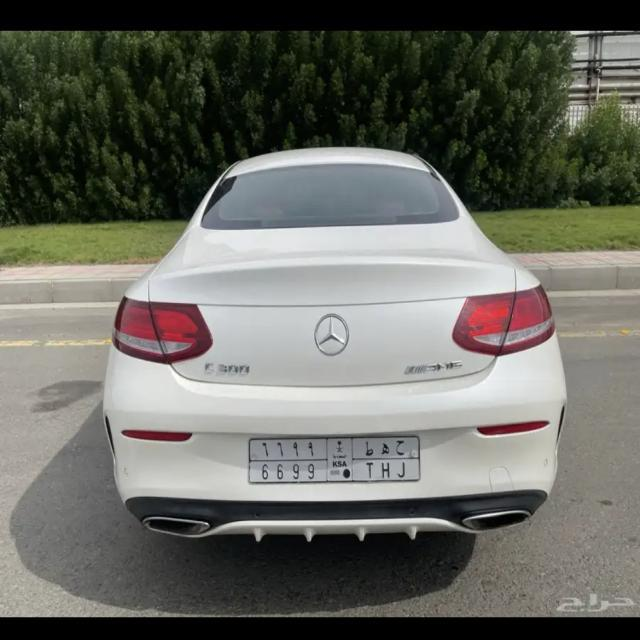license_plate: (245, 430, 425, 490)
